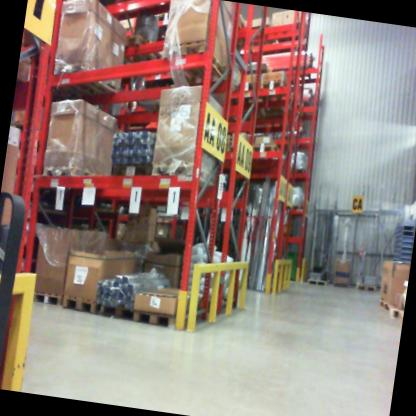pallet: (164, 32, 239, 93), (145, 157, 225, 200), (47, 55, 116, 103), (36, 159, 112, 196), (132, 298, 195, 337), (231, 66, 274, 118), (103, 151, 151, 193), (120, 28, 168, 68), (254, 74, 298, 115), (60, 292, 106, 322), (92, 299, 135, 325), (250, 140, 287, 169), (27, 284, 62, 311), (384, 296, 404, 319), (375, 297, 393, 316), (352, 280, 376, 292), (306, 276, 329, 287), (394, 307, 403, 323)
